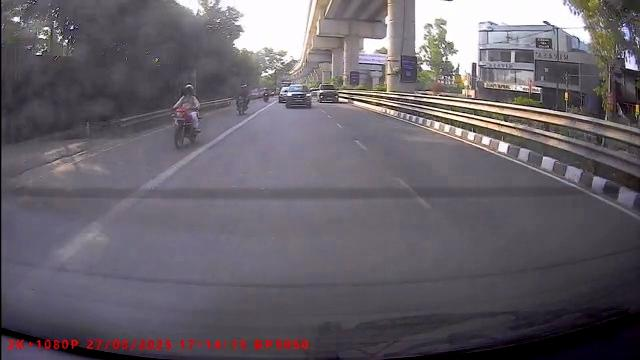motorcycle_with_helmet: (171, 82, 203, 151)
